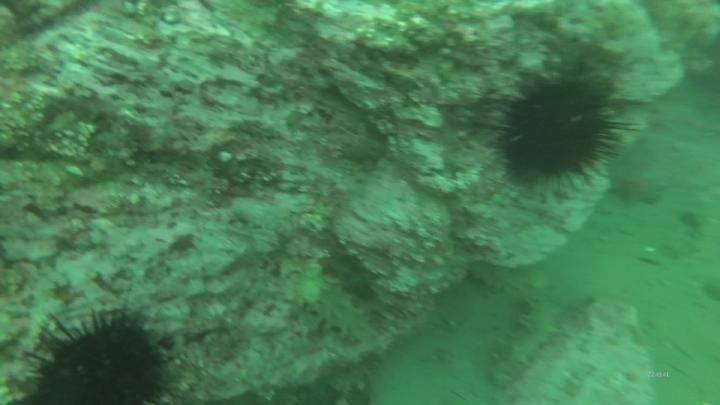echinus: (490, 65, 629, 193), (17, 304, 179, 404)
holothurian: (483, 286, 569, 390), (288, 259, 379, 348), (464, 257, 547, 299)
starfish: (607, 167, 668, 210)
